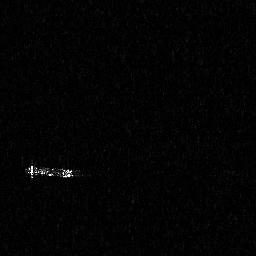ship: (23, 159, 88, 182)
